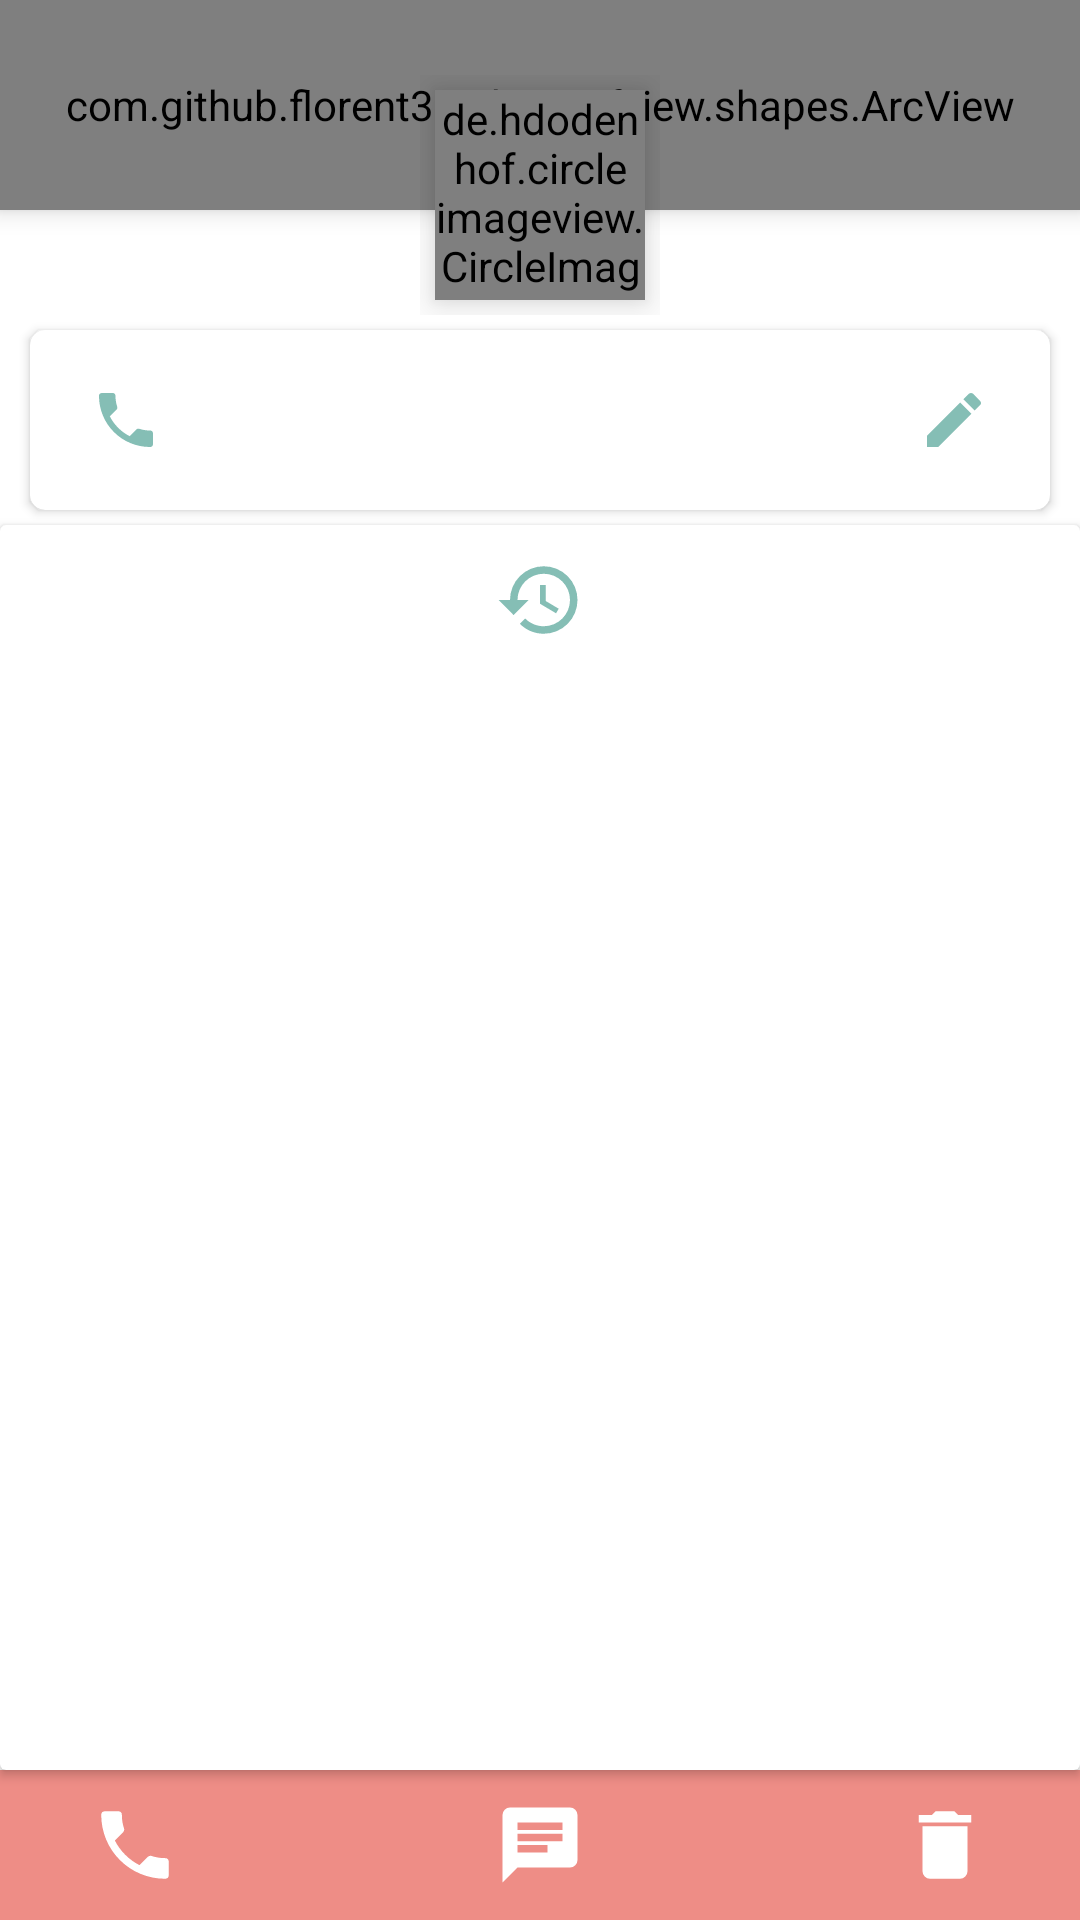

Named icons in this screenshot (1080 x 1920) and their centers, [x,y]:
delete: [945,1845]
history: [538,600]
message text: [540,1844]
pencil: [954,420]
phone: [126,420], [135,1845]
